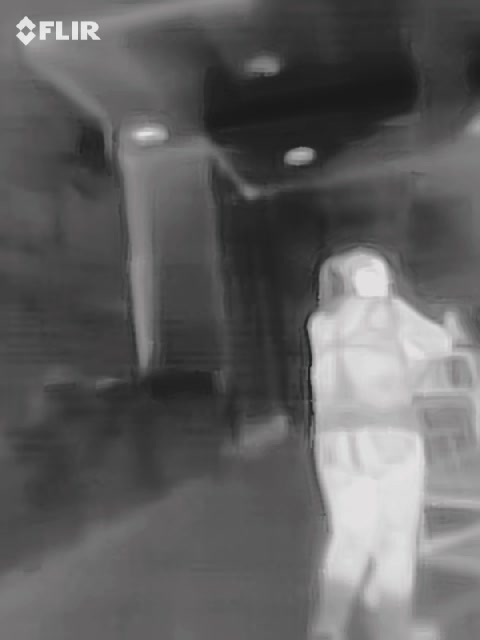head: (331, 245, 392, 303)
